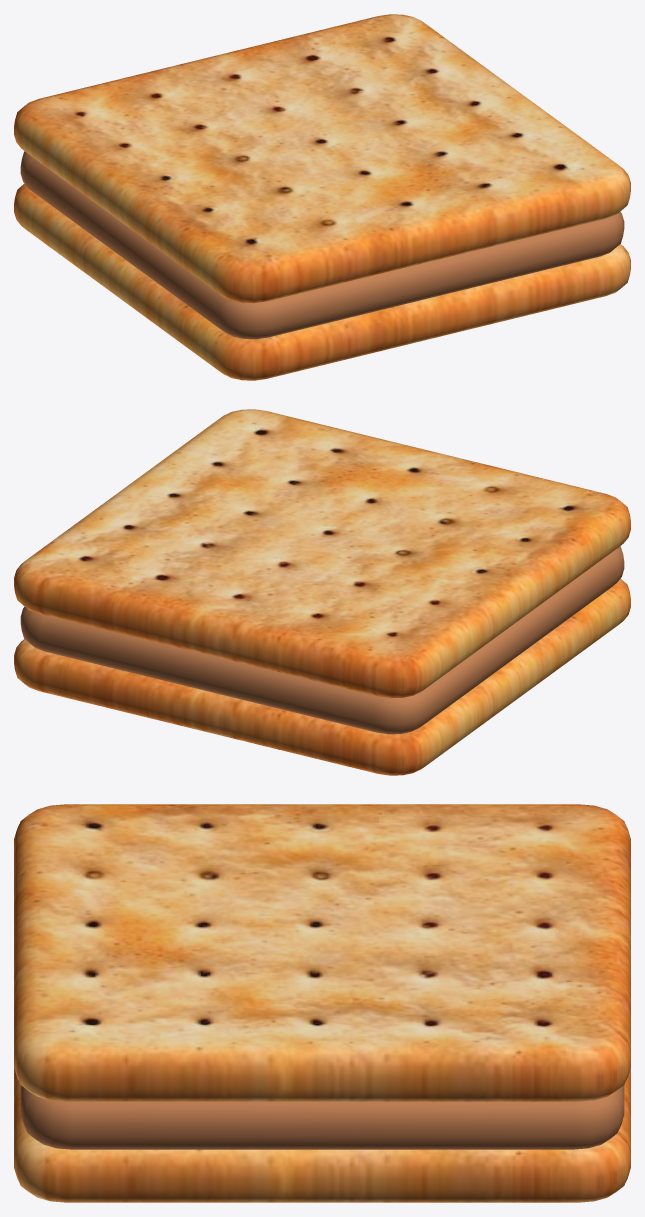
File: candy_waf_25.fbx
3 renders of one model, top to bottom at view 1: azimuth 30°, elevation 25°; view 2: azimuth 150°, elevation 25°; view 3: azimuth 270°, elevation 25°, orthographic. The views are drawn at different scales.
Visible parts, largest first — view 1: c_w_25; view 2: c_w_25; view 3: c_w_25.
Part boxes in pixels (<box>): c_w_25: <box>14,14,630,380</box>; c_w_25: <box>14,409,630,775</box>; c_w_25: <box>14,804,630,1202</box>.
Bounding box in the file's own units: 179 × 49.02 × 179.
